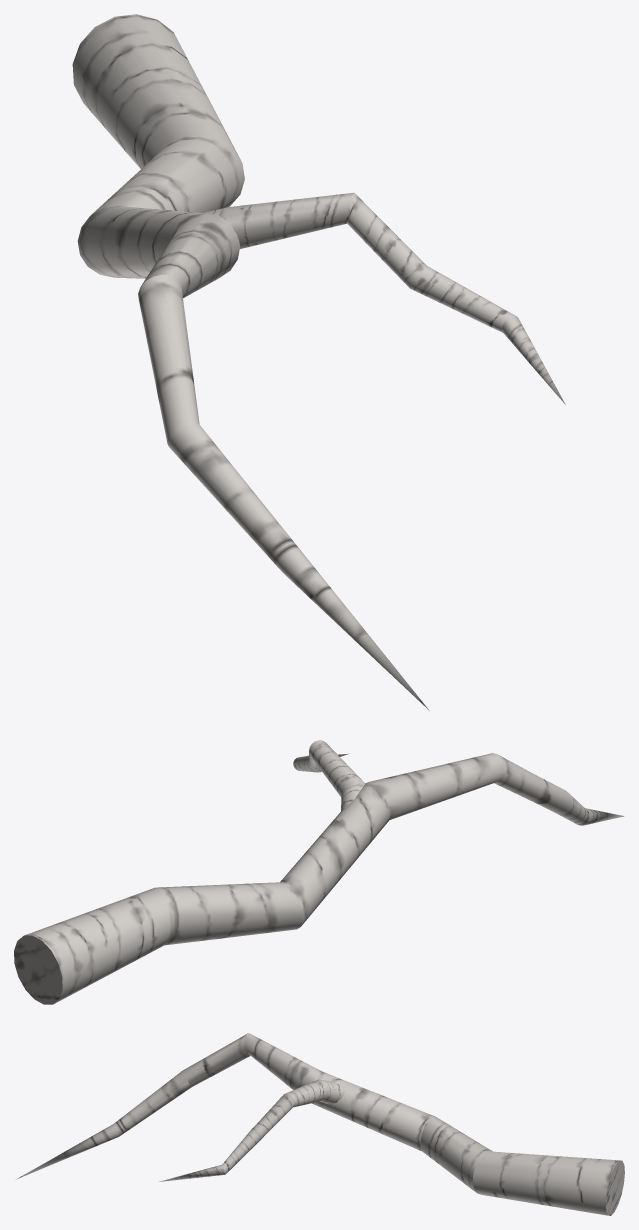
Rendered from Sm_Branches8L.fbx.
3 renders of one model, top to bottom at view 1: azimuth 30°, elevation 25°; view 2: azimuth 150°, elevation 25°; view 3: azimuth 270°, elevation 25°, orthographic. The views are drawn at different scales.
Visible parts, largest first — view 1: Sm_Branches8L; view 2: Sm_Branches8L; view 3: Sm_Branches8L.
Part boxes in pixels (x1=…): Sm_Branches8L: x1=72, y1=14, x2=565, y2=710; Sm_Branches8L: x1=14, y1=740, x2=624, y2=1004; Sm_Branches8L: x1=15, y1=1033, x2=624, y2=1215.
Bounding box in the file's own units: 32.55 × 19.66 × 79.07.
